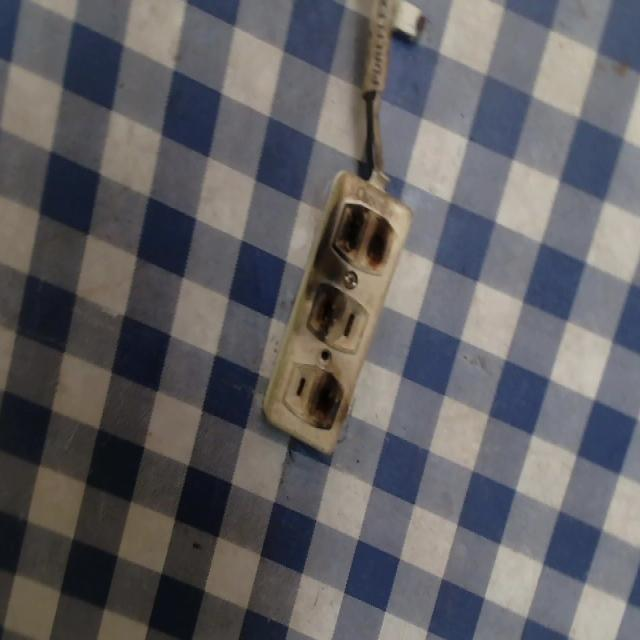-: (326, 196, 402, 272), (290, 273, 351, 348), (312, 362, 347, 430)
